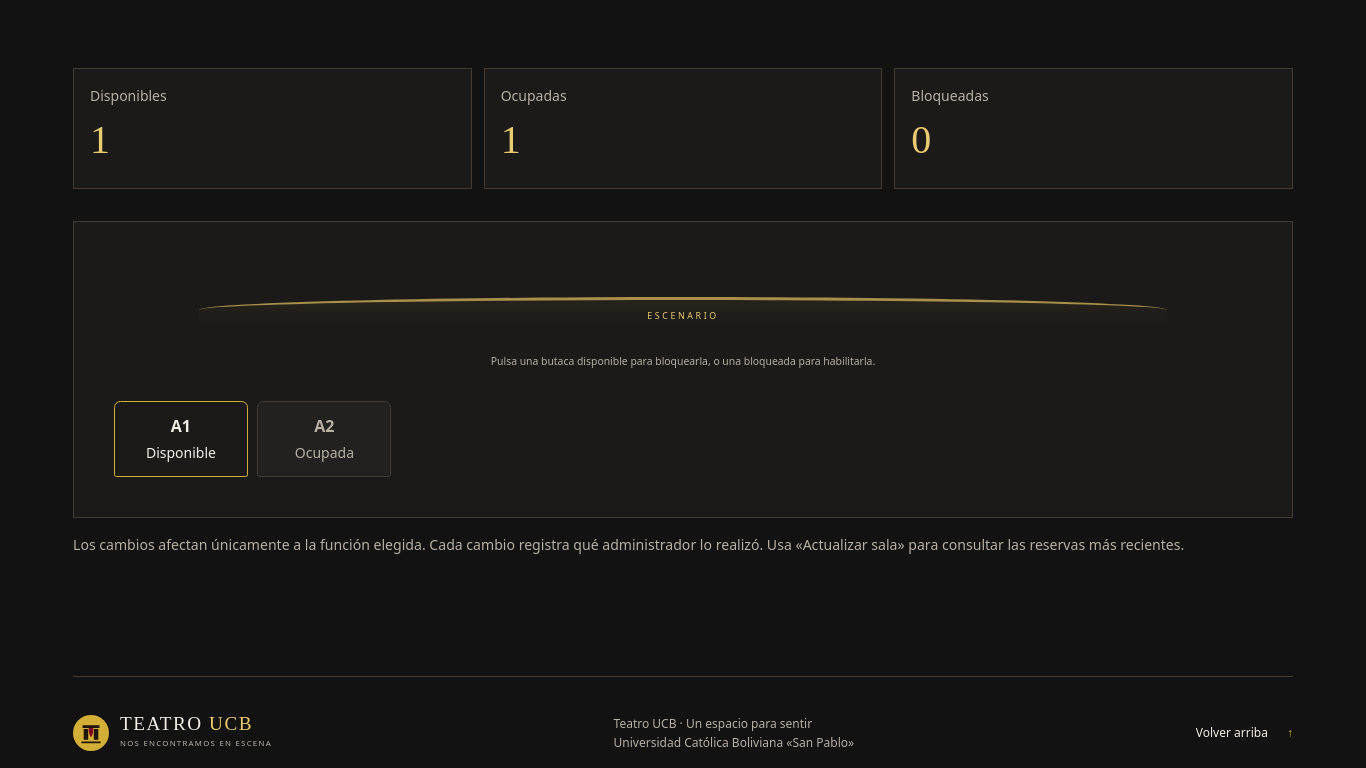
Test: el administrador bloquea y vuelve a habilitar una butaca desde el panel
The image size is (1366, 768).
(page scrolled)
Click the button with aria-label "Butaca A1: disponible, bloquear": click(181, 439) [114,401,248,477]
(page scrolled)
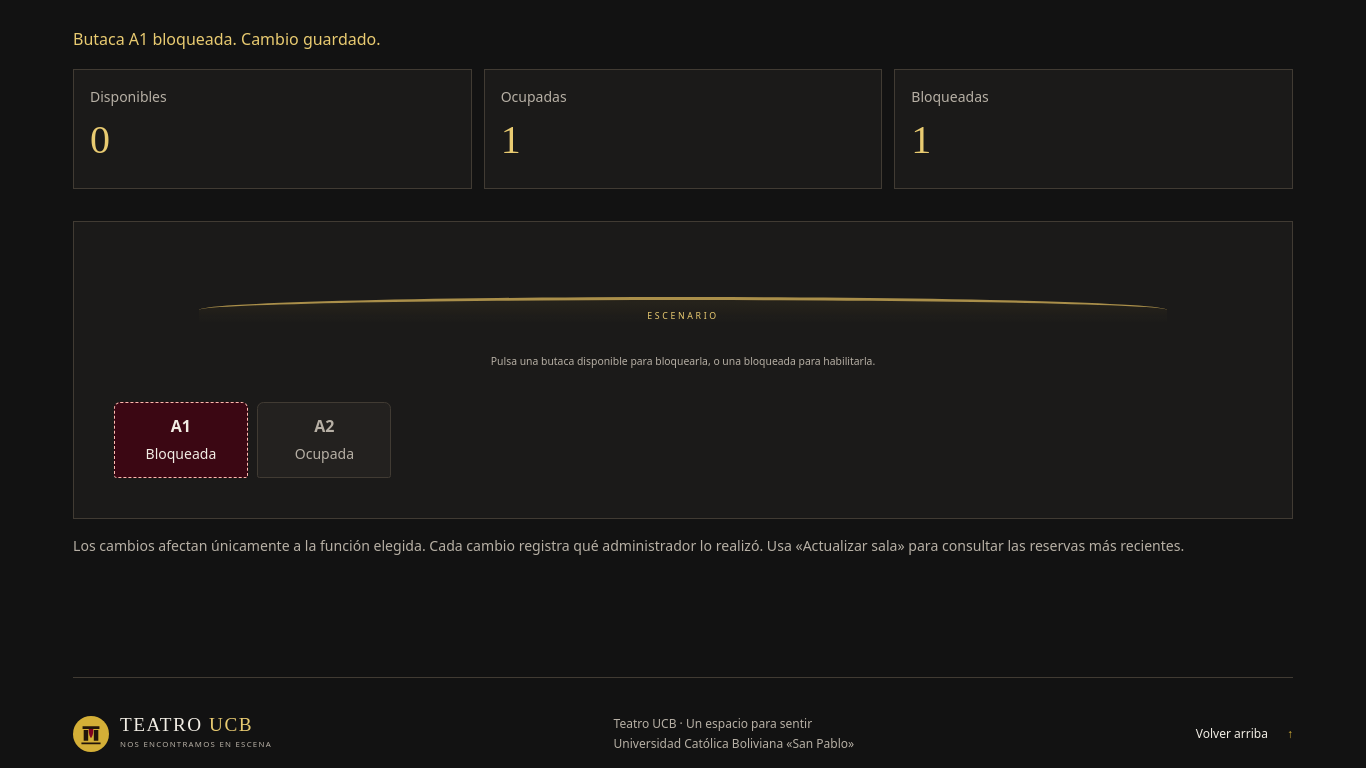
Check: the button with aria-label "Butaca A2: ocupada" is disabled, box [257,402,391,478]
Check: the text "Butaca A1 bloqueada. Cambio guardado." is shown, box [73,28,380,50]
Click the button with aria-label "Butaca A1: bloqueada, habilitar": click(181, 440) [114,402,248,478]
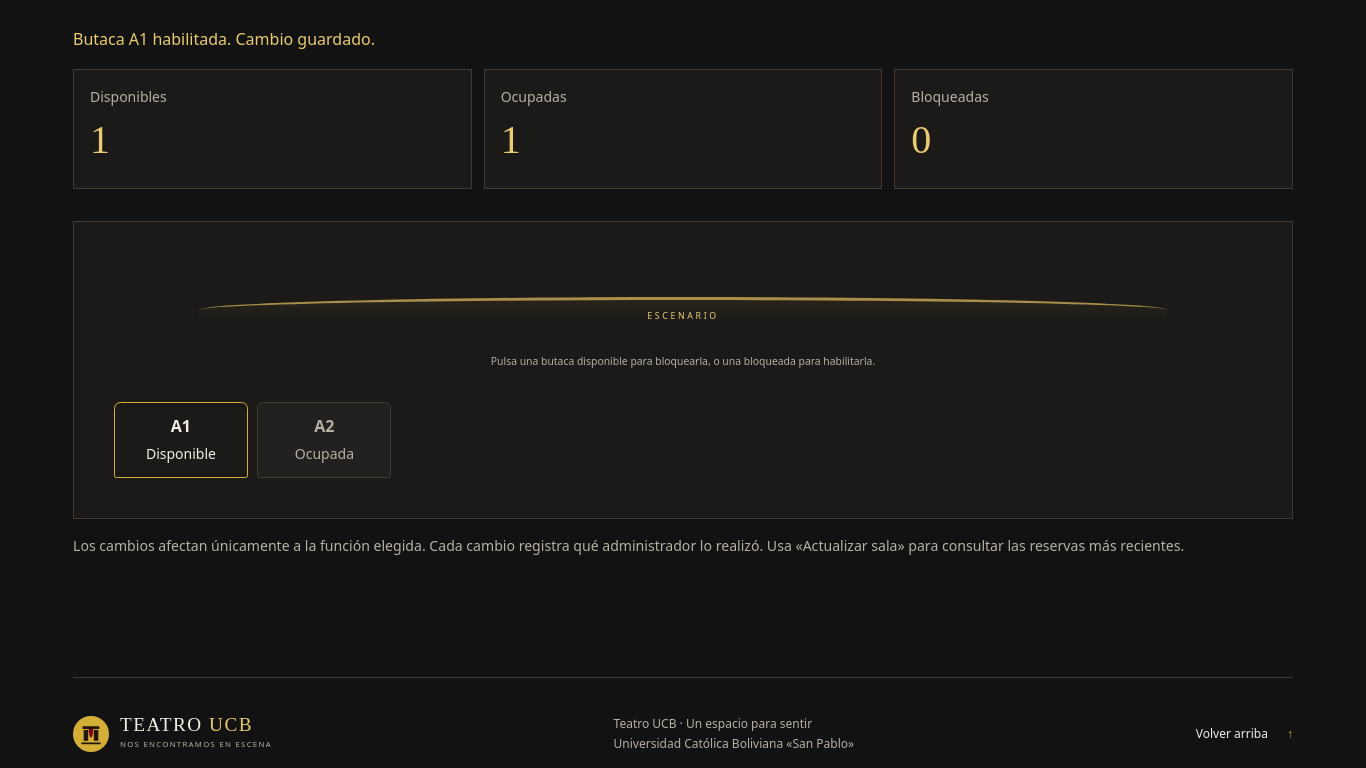
Check: the text "Butaca A1 habilitada. Cambio guardado." is shown, box [73,28,375,50]
